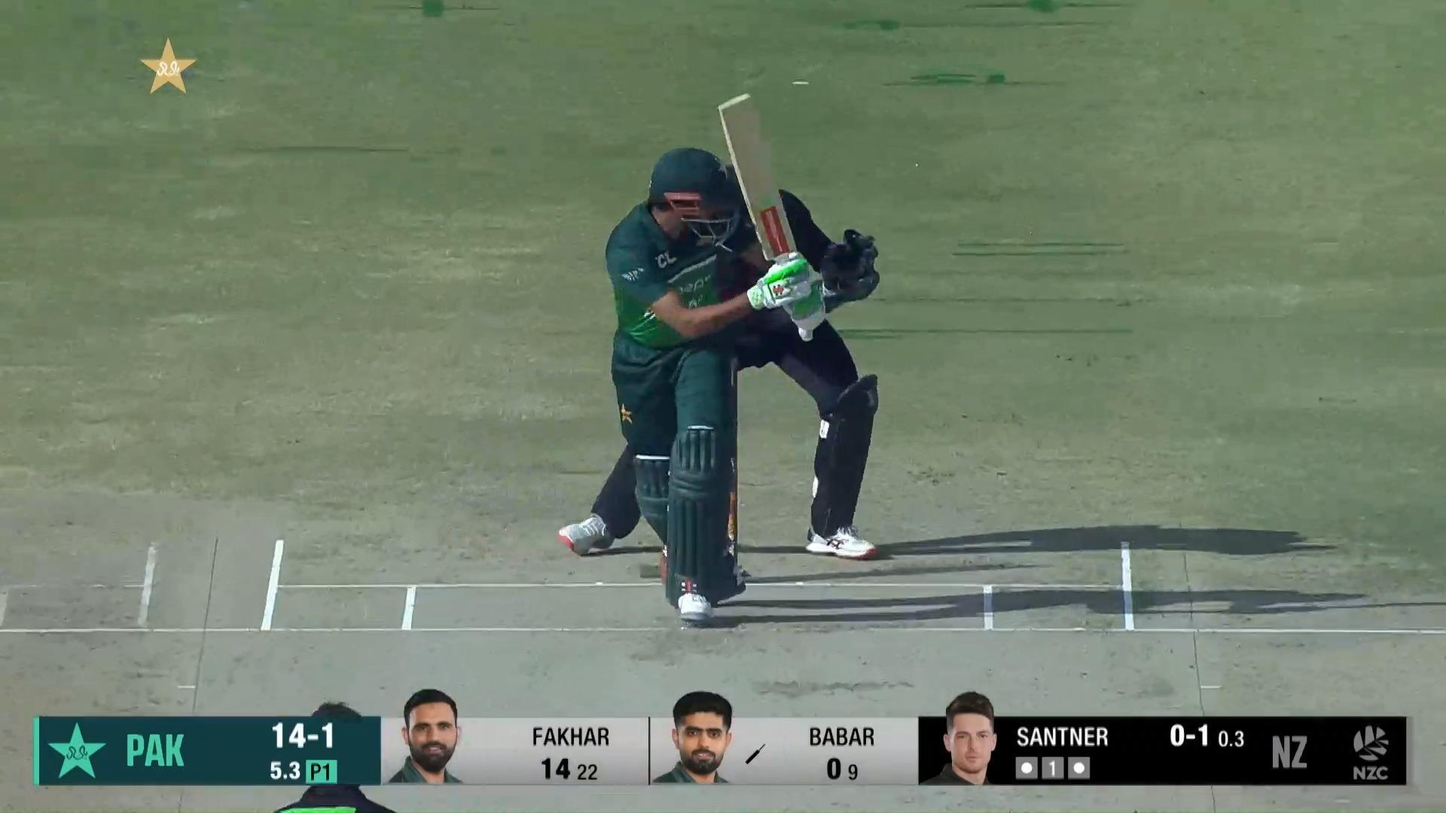BM 1: (606, 90, 830, 624)
BO: (269, 700, 394, 813)
